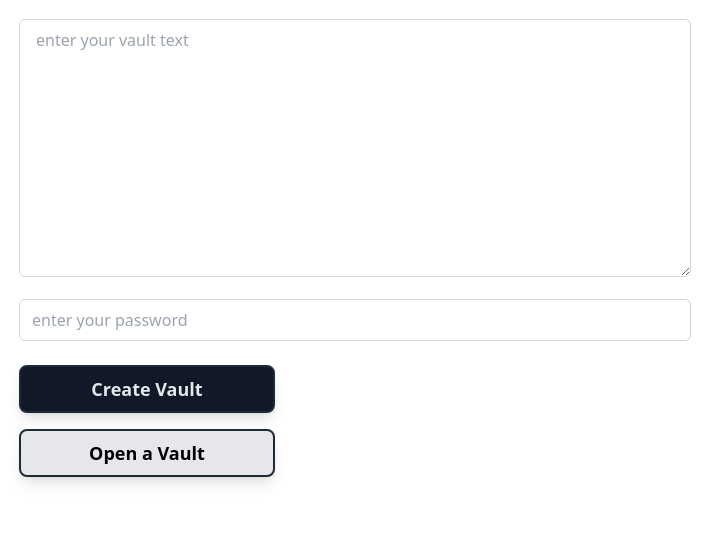
it: NewVaultForm › required error on empty submit
Click the button "Create Vault" at (147, 389), box [19,365,275,413]
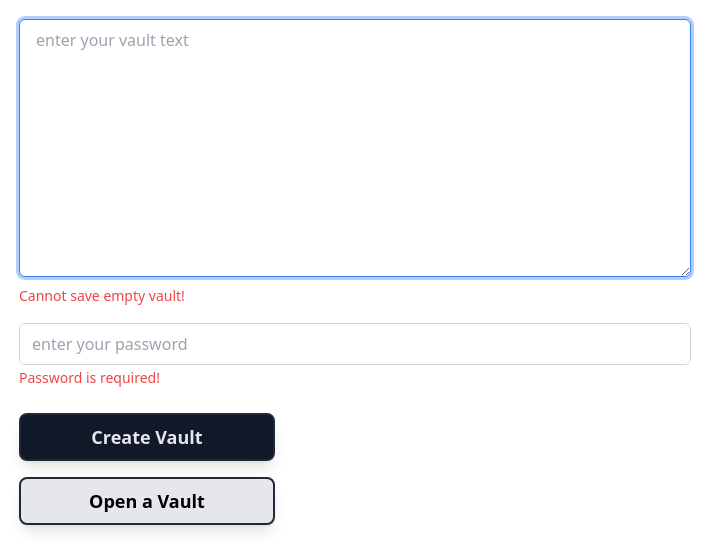
Expected: the text "Cannot save empty vault!" is shown, [19,286,185,305]
Expected: the text "Password is required!" is shown, [19,368,160,387]
